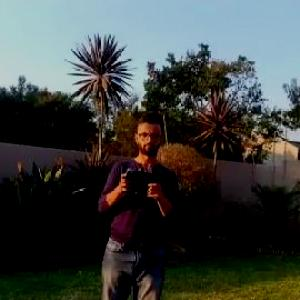follow: (89, 104, 189, 299)
